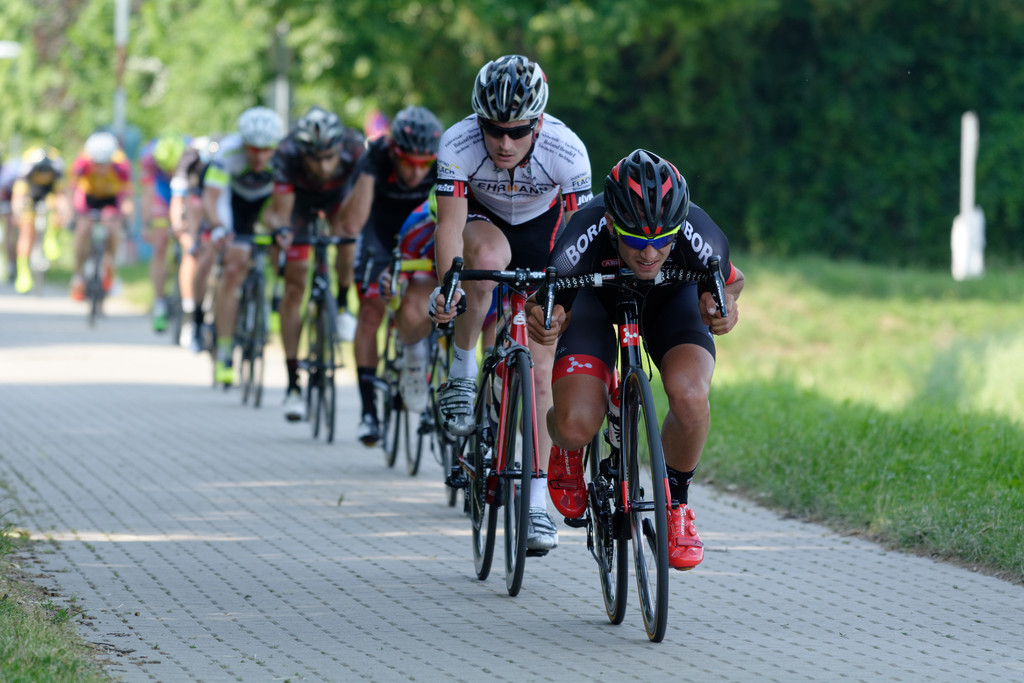Tree: (0, 0, 1023, 294)
